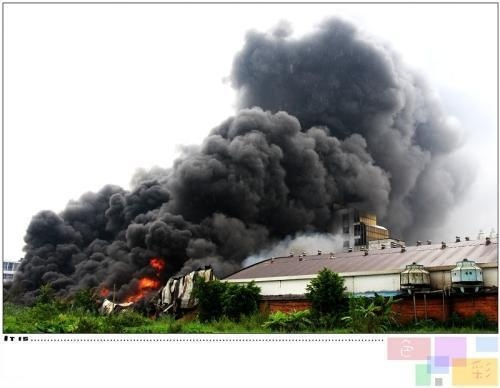fire: (125, 258, 164, 304)
